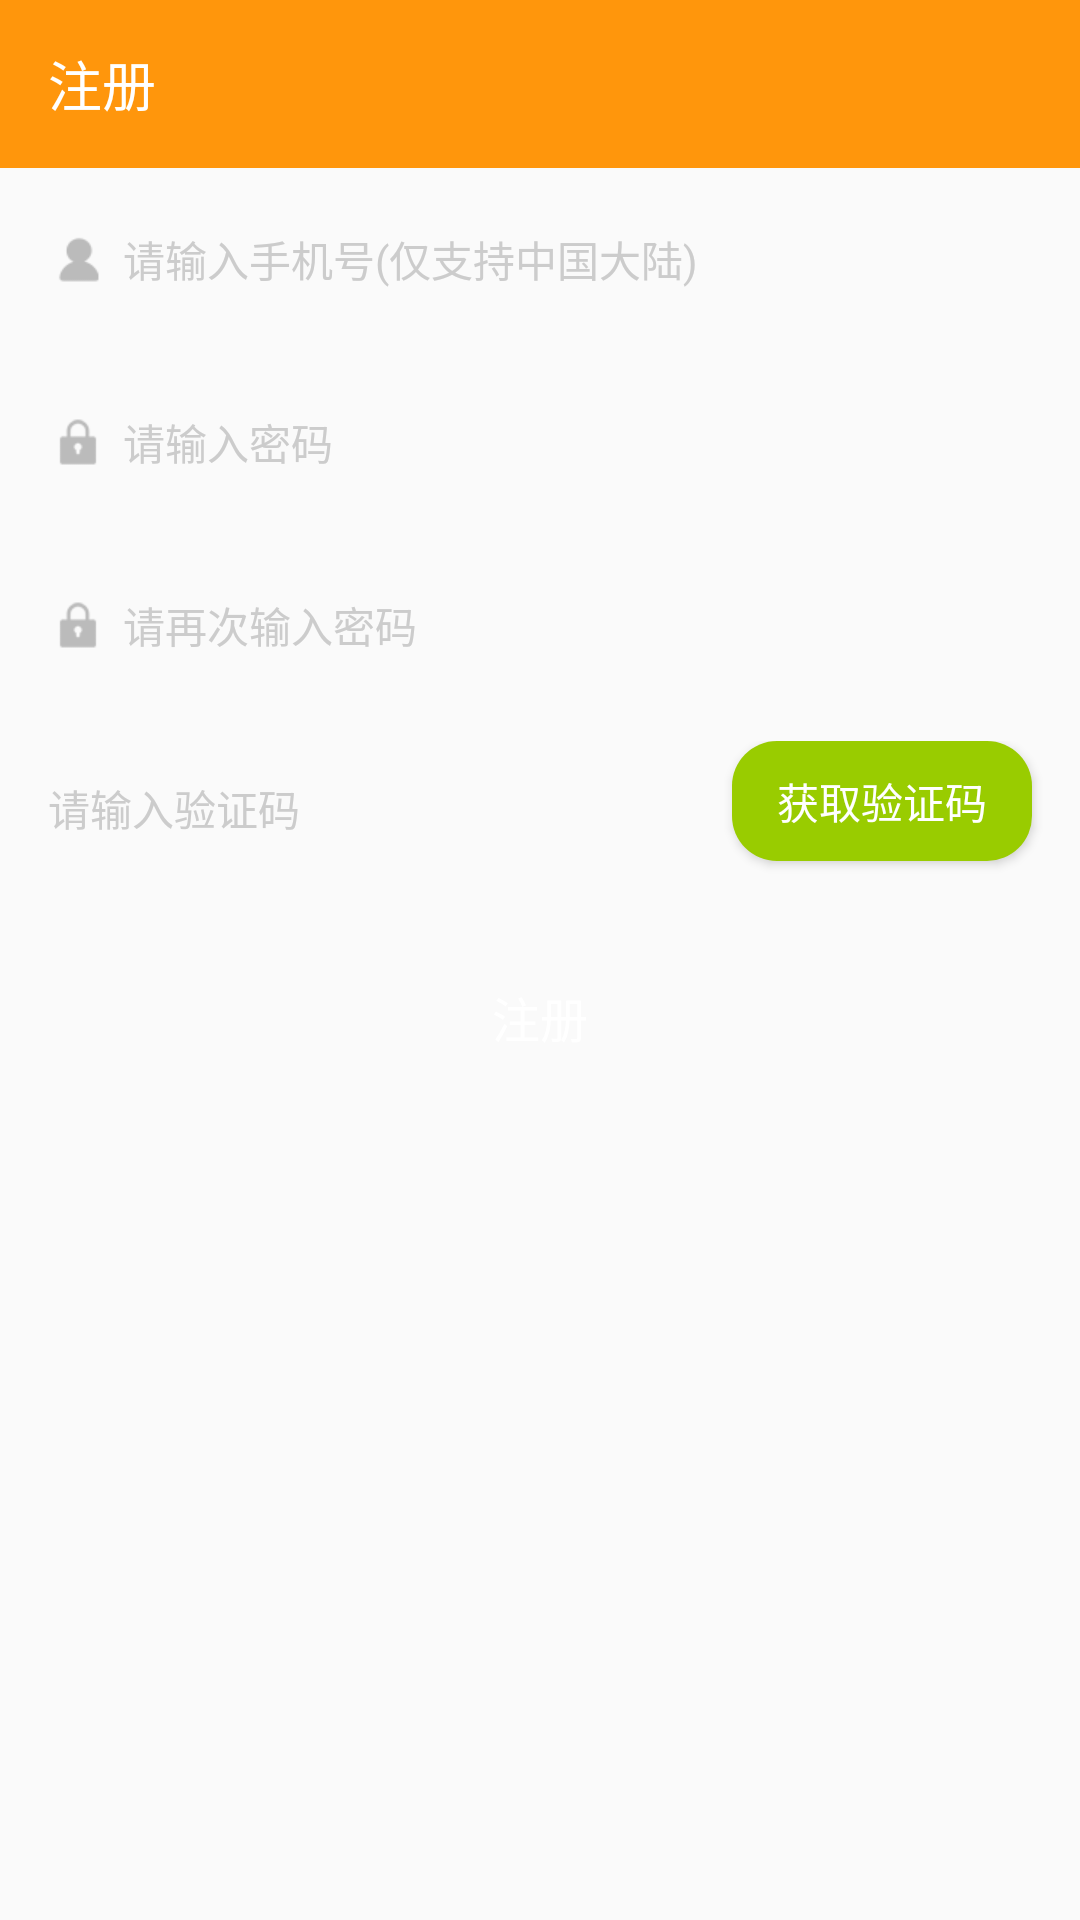

Icon bounding boxes for this 1080×1920 phone screenshot, format (x1, y1, x2, y2):
lock: (60, 419, 96, 465), (60, 602, 96, 648)
user profile: (59, 238, 99, 281)
